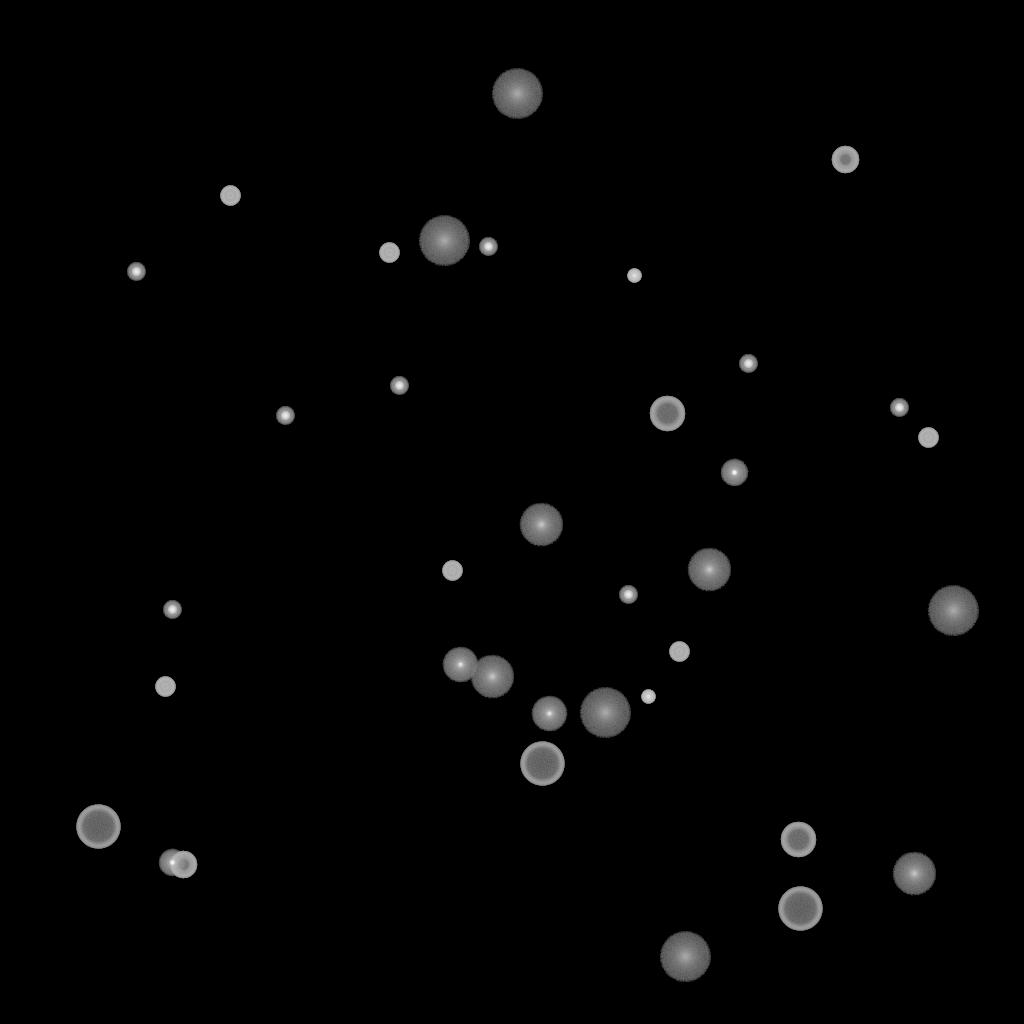depth:-10: (720, 459, 748, 487), (158, 849, 186, 877)
depth:-20: (276, 407, 294, 425), (479, 238, 497, 256), (127, 263, 145, 281), (619, 586, 637, 604), (390, 377, 408, 395), (739, 355, 757, 373), (890, 399, 908, 417), (163, 601, 181, 619)
depth:-30: (641, 690, 655, 704), (627, 269, 641, 283)
depth:-40: (442, 561, 462, 581), (155, 677, 175, 697), (918, 428, 938, 448), (669, 642, 689, 662), (379, 243, 399, 263), (220, 186, 240, 206)
depth:-50: (169, 851, 197, 879), (831, 146, 859, 174)
depth:-60: (780, 822, 816, 858), (649, 396, 685, 432)
depth:-70: (76, 805, 120, 849), (778, 887, 822, 931), (520, 742, 564, 786)
depth:0: (442, 647, 478, 683), (531, 696, 567, 732)
depth:10: (687, 548, 731, 592), (519, 503, 563, 547), (892, 852, 936, 896), (470, 655, 514, 699)
depth:20: (659, 932, 711, 982), (491, 69, 543, 119), (579, 688, 631, 738), (418, 216, 470, 266), (927, 586, 979, 636)
